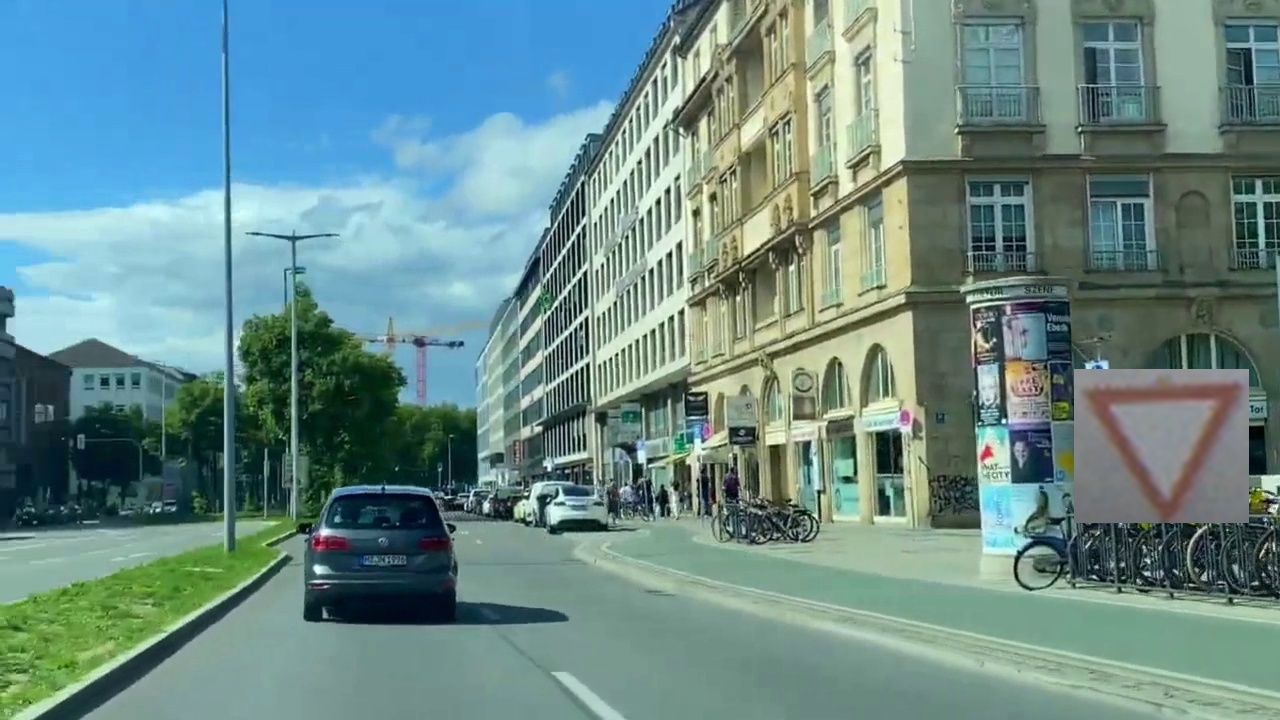Yield: (1074, 369, 1249, 523)
